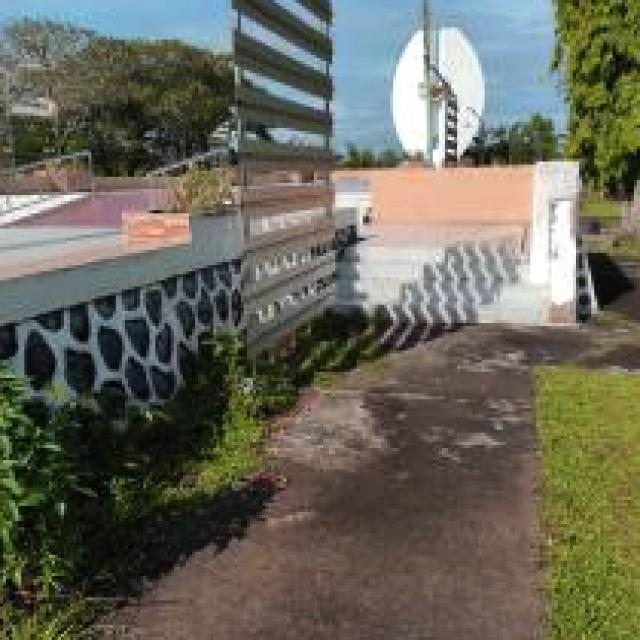upstair: (351, 230, 571, 333)
